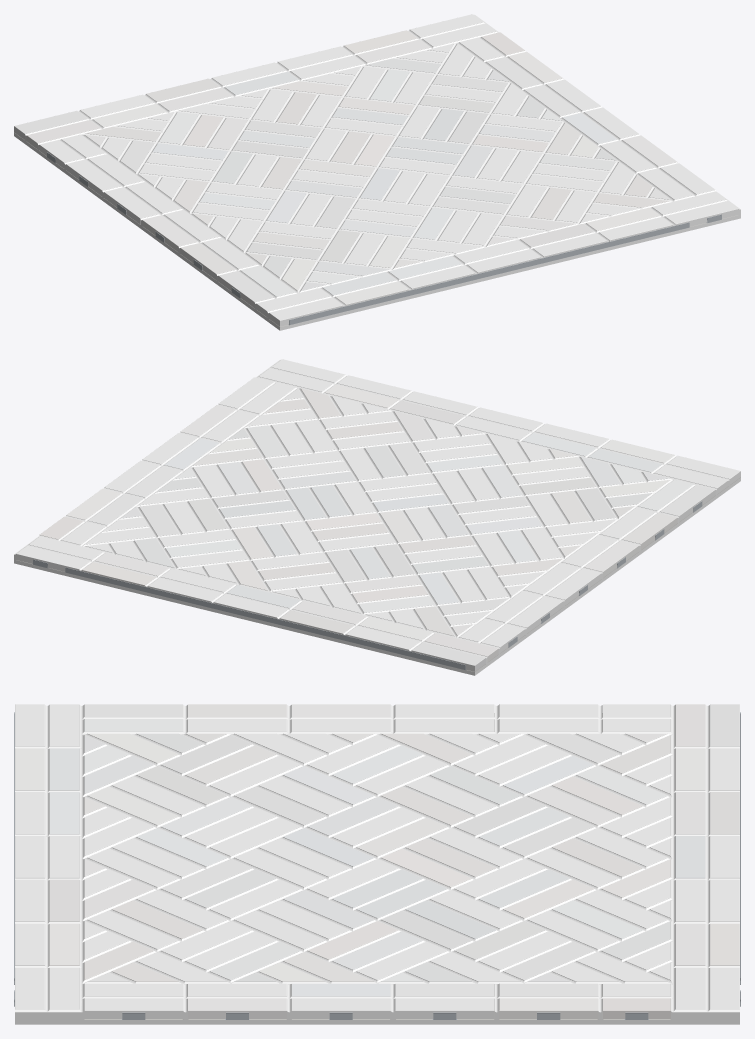
File: board_8.glb
The picture shows the model from 3 angles, top to bottom: view 1: azimuth 30°, elevation 25°; view 2: azimuth 150°, elevation 25°; view 3: azimuth 270°, elevation 25°; orthographic projection. The views are drawn at different scales.
Parts seen in each view (by area): view 1: T01_T01, MORTAR, T04_T04, T03_T03, backing, CLIP_LC-1366, T05_T05, T02_T02; view 2: T01_T01, MORTAR, T04_T04, T03_T03, backing, CLIP_LC-1366, T05_T05, T02_T02; view 3: T01_T01, MORTAR, T04_T04, T03_T03, backing, T05_T05, T02_T02, CLIP_RC-50, CLIP_LC-1366.
Boxes of the visible parts, x1,y1,x2,y2 form: T01_T01: (14, 14, 738, 326); MORTAR: (25, 14, 740, 318); T04_T04: (85, 44, 669, 290); T03_T03: (102, 51, 652, 283); backing: (14, 132, 740, 330); CLIP_LC-1366: (289, 222, 689, 325); T05_T05: (39, 32, 524, 168); T02_T02: (85, 43, 670, 290); T01_T01: (16, 359, 740, 671); MORTAR: (14, 359, 729, 663); T04_T04: (84, 388, 669, 635); T03_T03: (103, 396, 651, 628); backing: (14, 477, 740, 675); CLIP_LC-1366: (65, 567, 465, 670); T05_T05: (39, 516, 525, 652); T02_T02: (85, 389, 669, 635); T01_T01: (15, 704, 739, 1018); MORTAR: (15, 705, 739, 1019); T04_T04: (84, 733, 670, 981); T03_T03: (84, 733, 670, 981); backing: (15, 713, 739, 1024); T05_T05: (603, 704, 670, 1018); T02_T02: (84, 733, 670, 981); CLIP_RC-50: (14, 990, 740, 1019); CLIP_LC-1366: (14, 712, 740, 984).
Bounding box in the file's own units: 1.58 × 0.033 × 1.58.
Materials: 7 (1 with a texture image).
